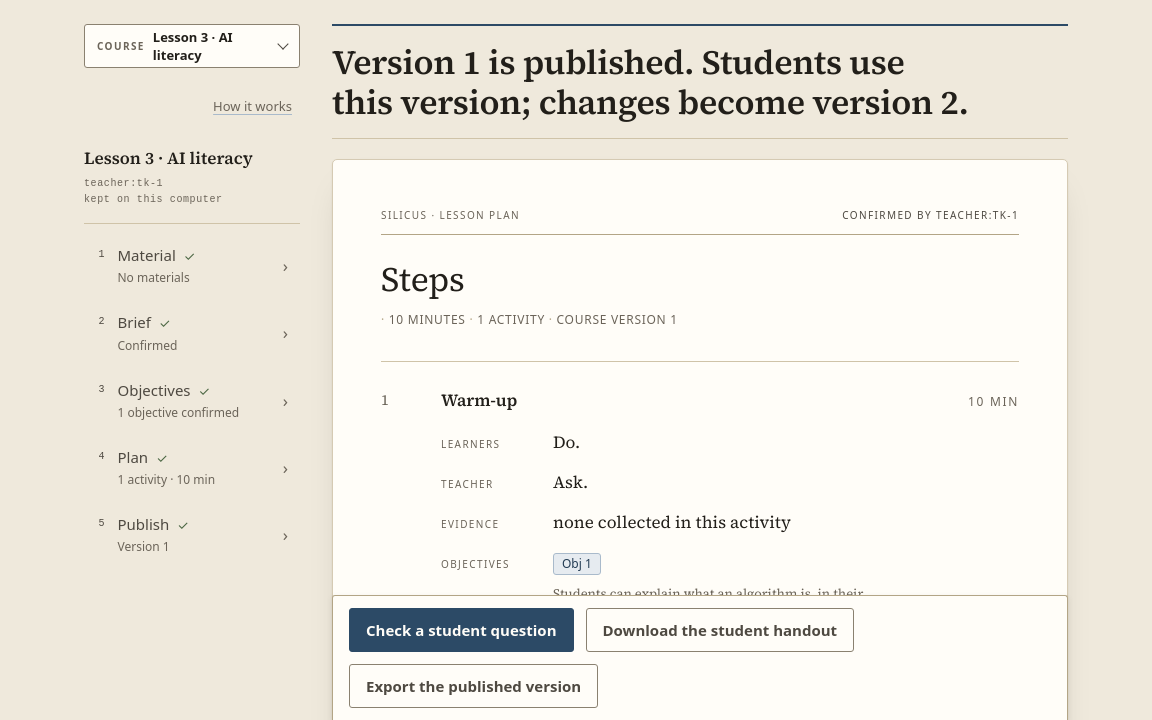
Scenario: LiveCourse — thin client of the host › lets a teacher try the published course as a student: grounded answers show what they rest on, and nothing is saved
Click the button "Check a student question" at (461, 630), box [349, 608, 574, 652]
(page scrolled)
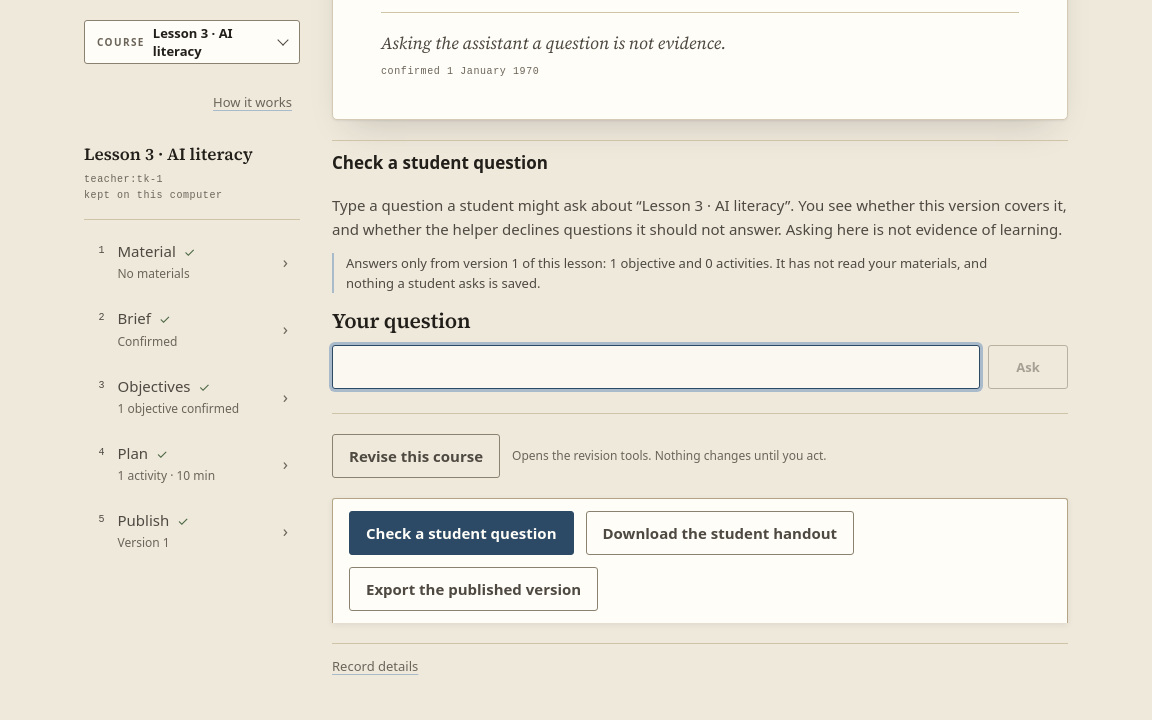
Type "What is an algorithm?" into the field labelled "Your question" at (656, 367), box [332, 345, 980, 389]
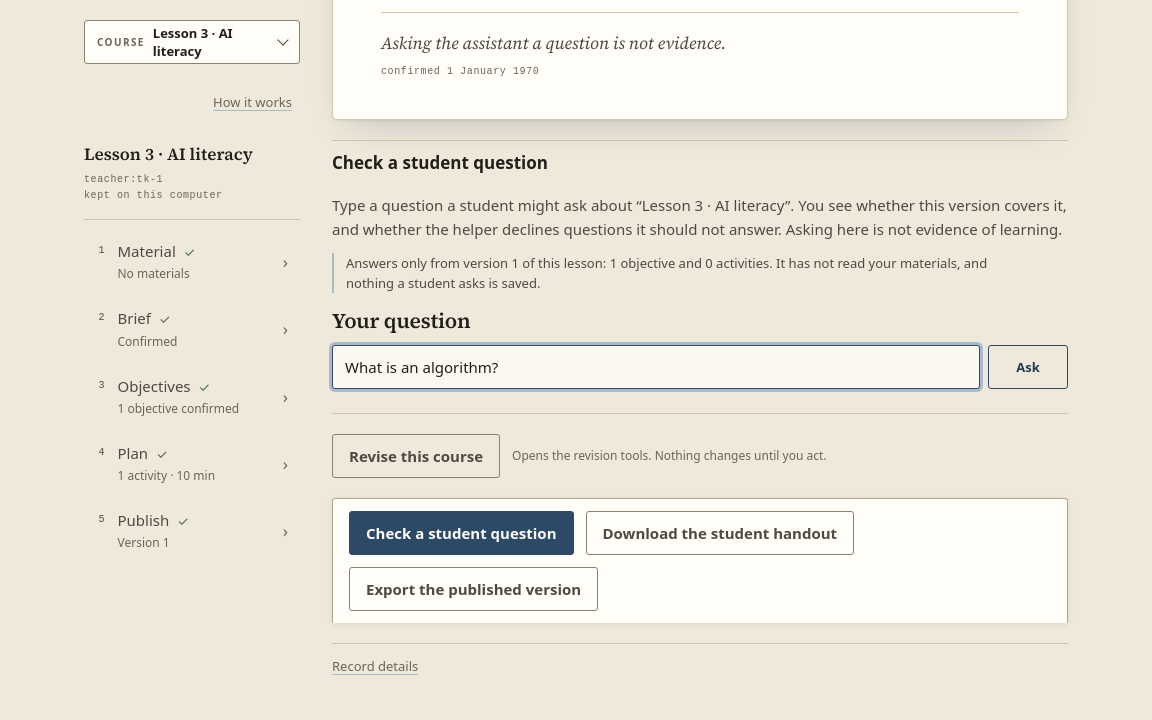
Click the button "Ask" at (1028, 367), box [988, 345, 1068, 389]
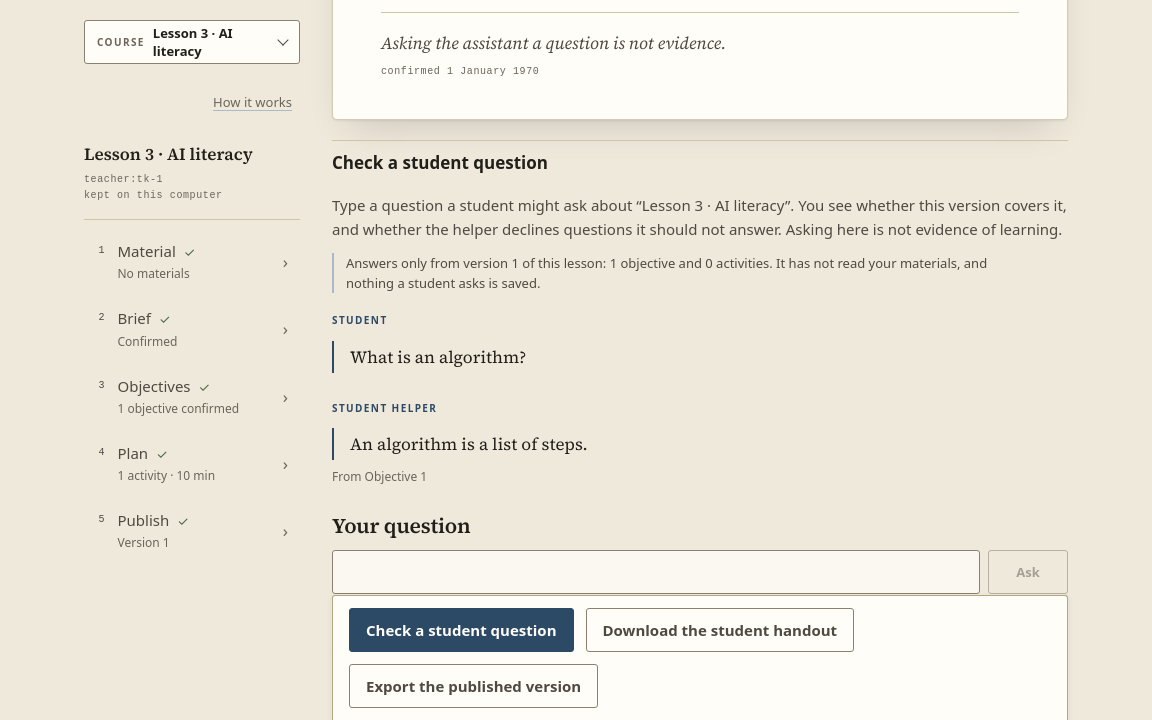
Check: the text "Asking here is not evidence of learning" is shown, box [332, 195, 1067, 239]
Check: the text "An algorithm is a list of steps." is shown, box [332, 428, 1068, 460]
Check: the text "From Objective 1" is shown, box [332, 468, 427, 485]
